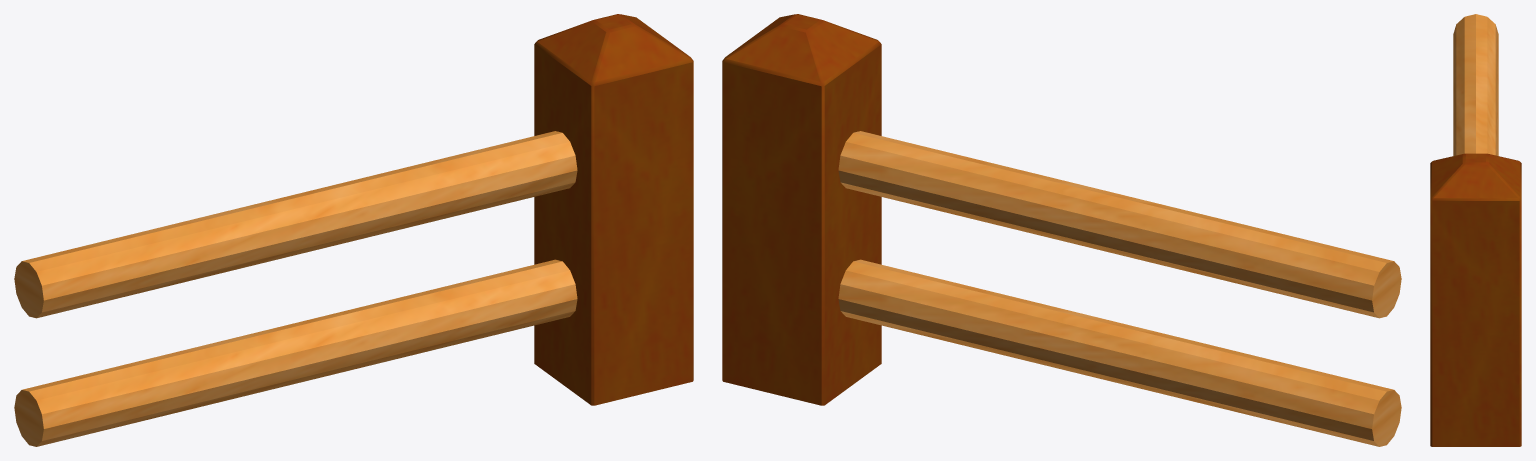
Rendered from FenceSegmentContinuation.fbx.
3 renders of one model, left to right at view 1: azimuth 30°, elevation 25°; view 2: azimuth 150°, elevation 25°; view 3: azimuth 270°, elevation 25°, orthographic. The views are drawn at different scales.
Parts seen in each view (by area): view 1: FeceSegmentContinuation; view 2: FeceSegmentContinuation; view 3: FeceSegmentContinuation.
Part boxes in pixels (x1,y1,x2,y2): FeceSegmentContinuation: [14, 14, 693, 446]; FeceSegmentContinuation: [722, 14, 1401, 446]; FeceSegmentContinuation: [1430, 14, 1521, 446].
Bounding box in the file's own units: 6.21 × 3.27 × 1.
